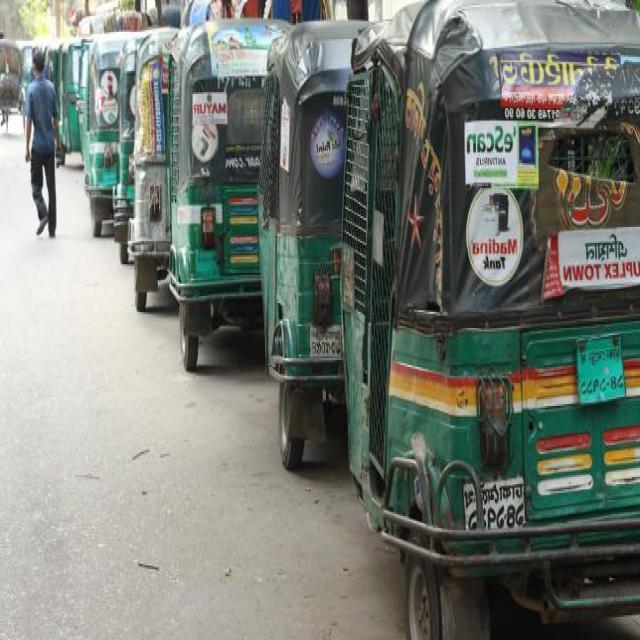CNG: (339, 14, 640, 640), (257, 12, 392, 485), (158, 1, 280, 386)
